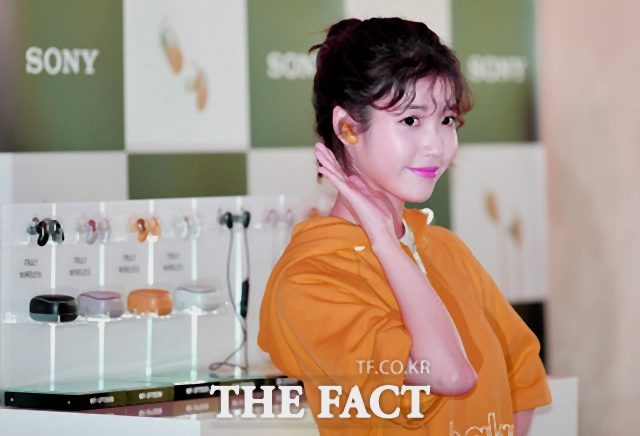earphone: (331, 105, 362, 147)
